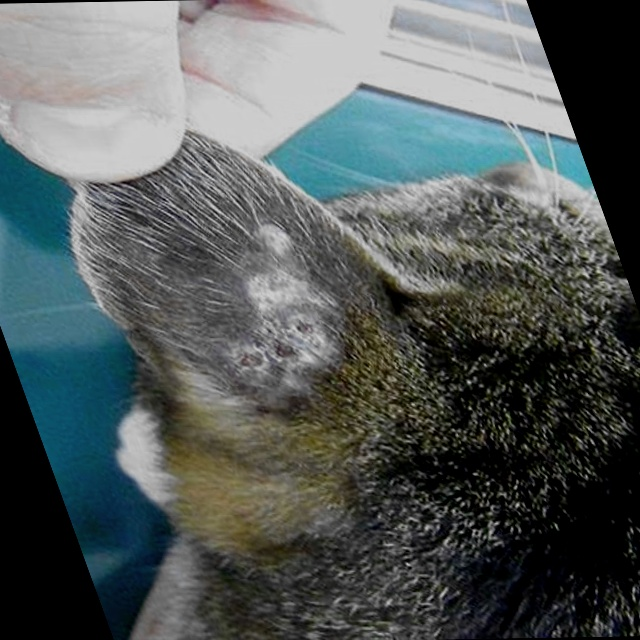ringworm: (184, 225, 369, 395)
